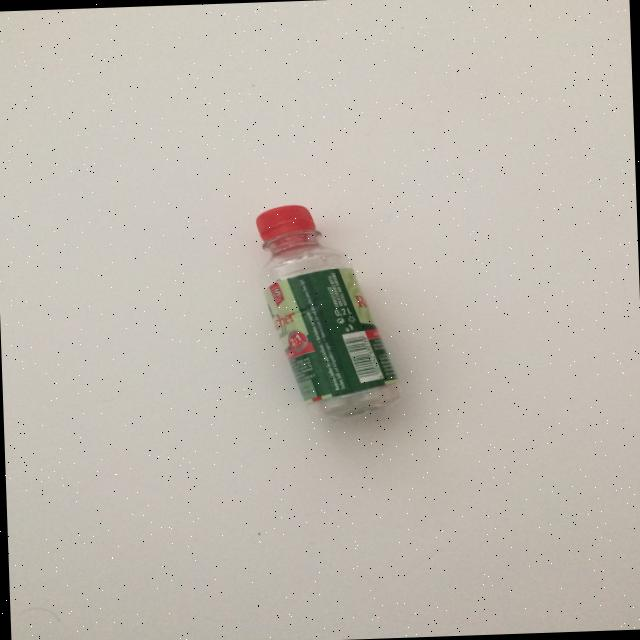plastic: (253, 200, 403, 422)
